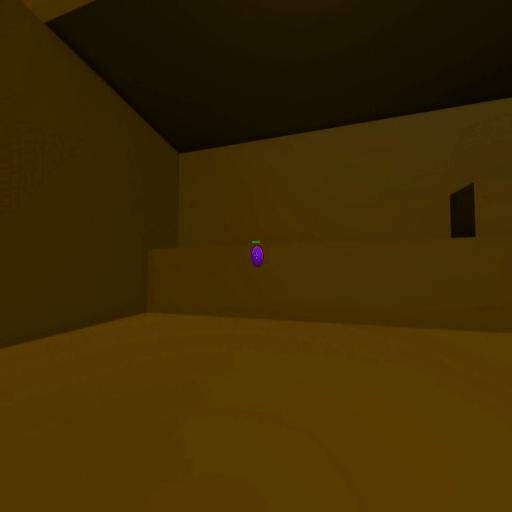Crosshair: (254, 252, 258, 260)
Target: (251, 245, 263, 267)
